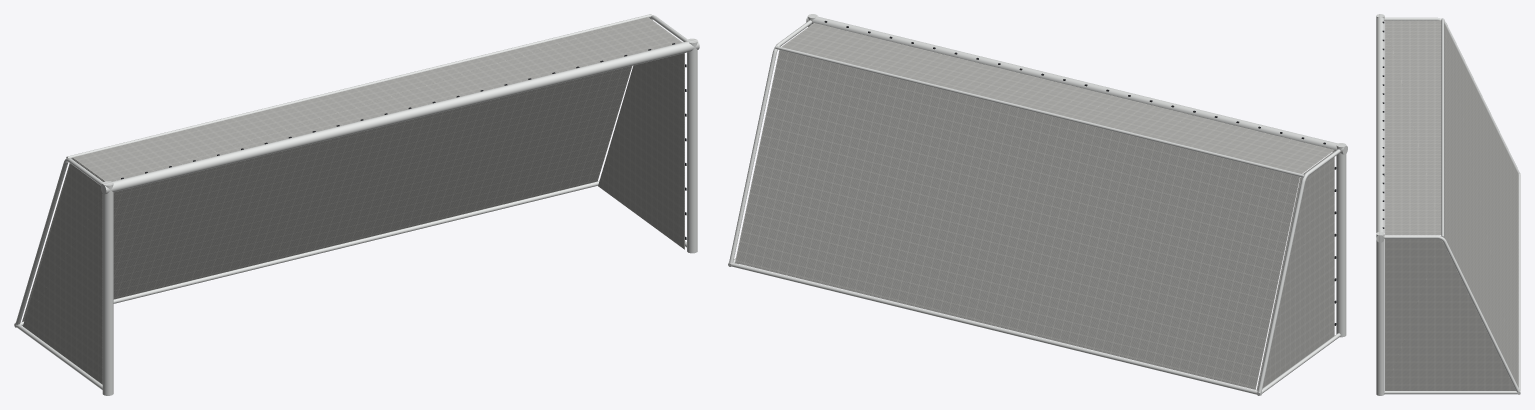
Rendered from soccer-goal-with-net.glb.
3 renders of one model, left to right at view 1: azimuth 30°, elevation 25°; view 2: azimuth 150°, elevation 25°; view 3: azimuth 270°, elevation 25°, orthographic. The views are drawn at different scales.
Parts seen in each view (by area): view 1: Goal net, Goal posts and crossbar, Net supports and ground frame; view 2: Goal net, Net supports and ground frame, Goal posts and crossbar; view 3: Goal net, Net supports and ground frame, Goal posts and crossbar.
Part boxes in pixels (left/top/right/bottom): Goal net: left=22, top=17, right=684, bottom=384; Goal posts and crossbar: left=101, top=38, right=699, bottom=395; Net supports and ground frame: left=14, top=14, right=687, bottom=389; Goal net: left=735, top=23, right=1334, bottom=390; Net supports and ground frame: left=728, top=20, right=1340, bottom=395; Goal posts and crossbar: left=806, top=14, right=1347, bottom=337; Goal net: left=1385, top=20, right=1518, bottom=390; Net supports and ground frame: left=1384, top=17, right=1520, bottom=394; Goal posts and crossbar: left=1376, top=14, right=1384, bottom=395.
Bounding box in the file's own units: 7.56 × 2.56 × 2.09.
4 materials, 4 textured.
